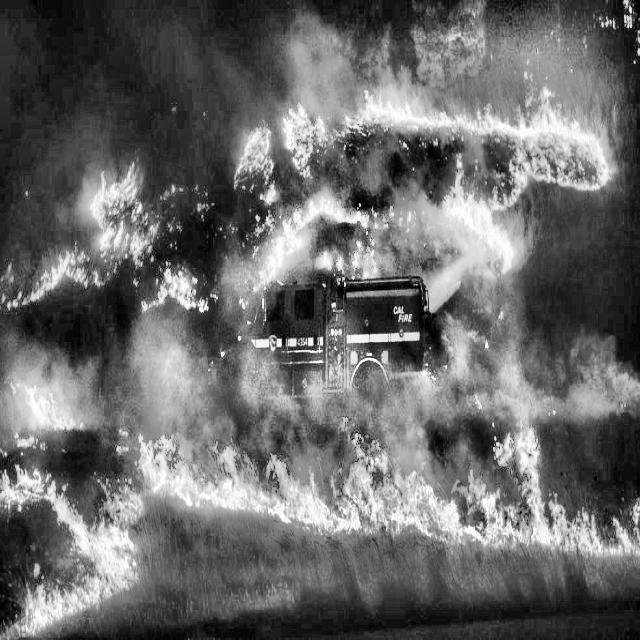fire: (0, 444, 640, 640), (253, 73, 570, 387), (8, 129, 189, 370)
